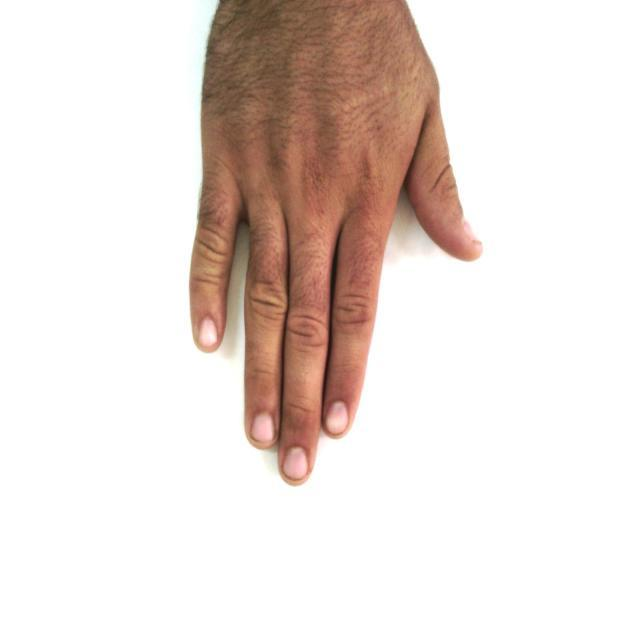Fingernail: (283, 448, 308, 480), (327, 402, 348, 434), (253, 414, 274, 444), (200, 318, 217, 347), (464, 221, 480, 240)
